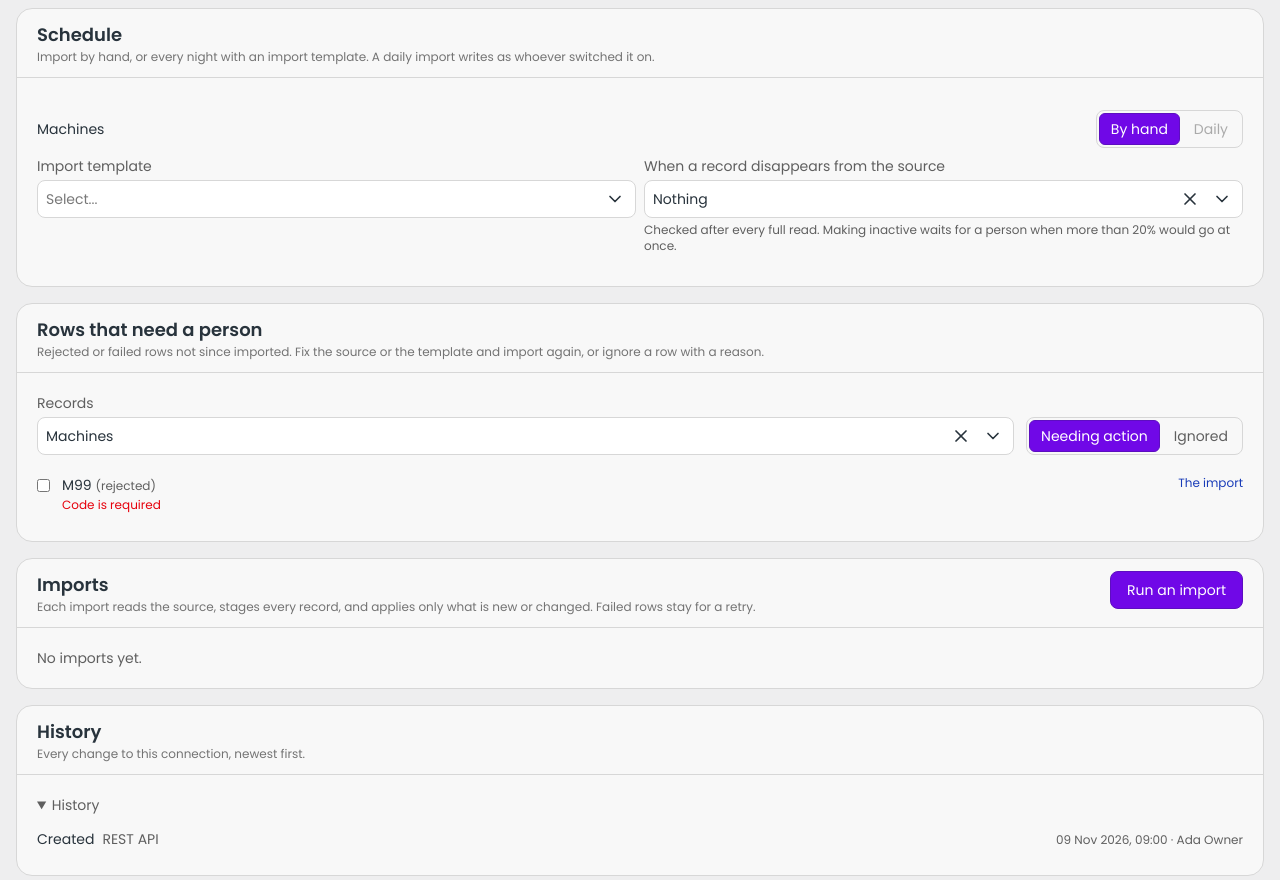
rows that need a person › ignores a rejected row with a reason
The width and height of the screenshot is (1280, 880).
(page scrolled)
Expected: the text "Code is required" is shown, [62,496,161,513]
Click the checkbox named "Choose M99": (44, 486) [37,479,50,492]
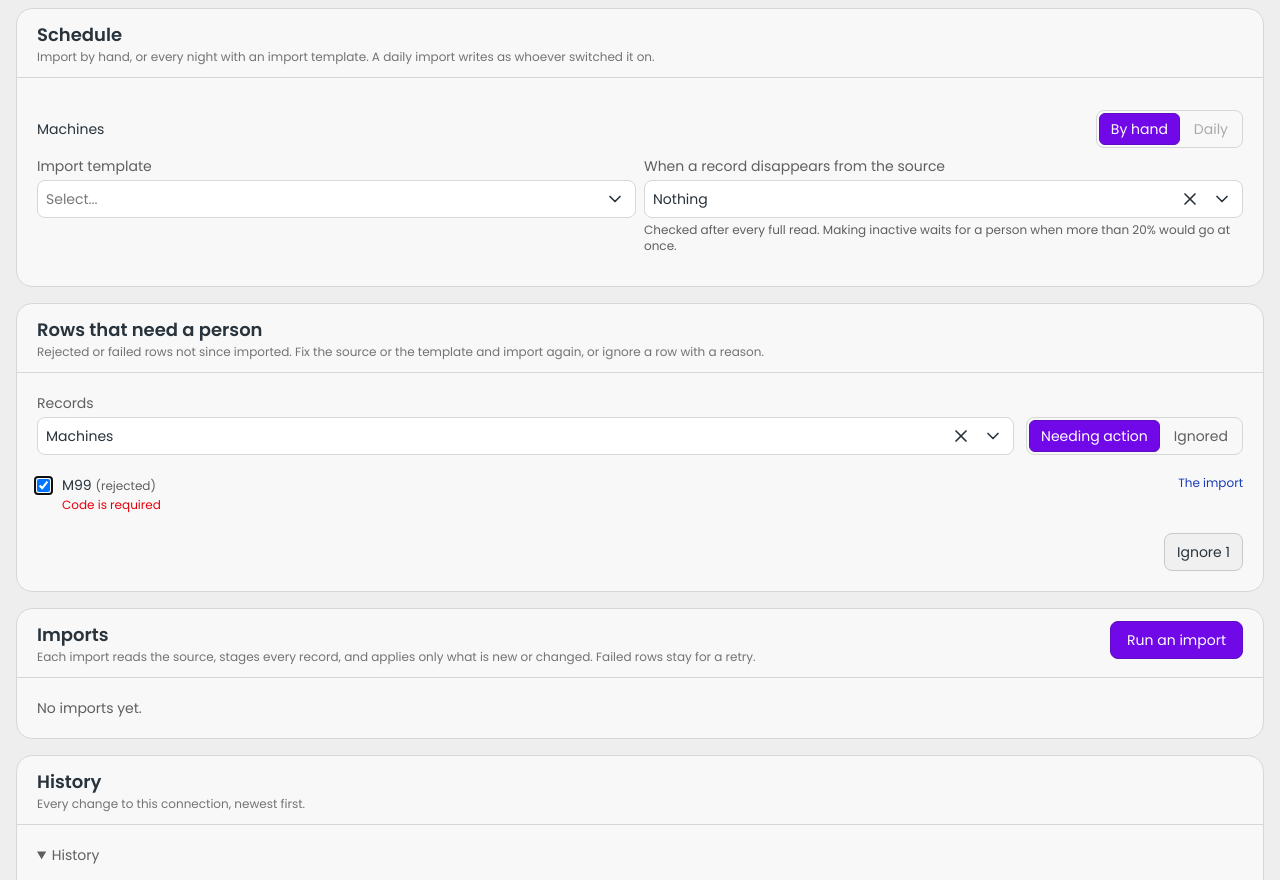
Click the button "Ignore 1": (1204, 552) [1164,533,1243,571]
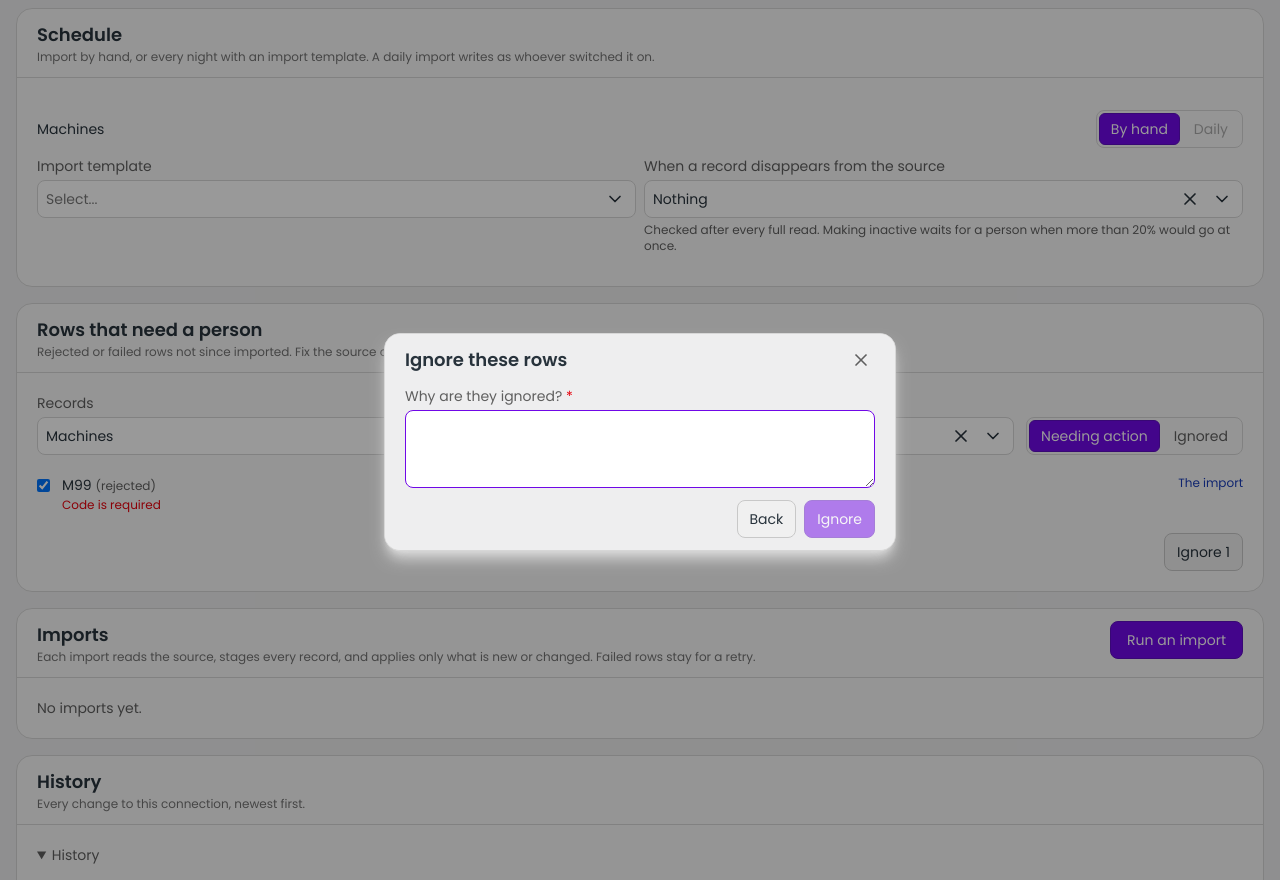
In the text box labelled "Why are they ignored?": (640, 449) [405,410,875,488], type "A test machine"
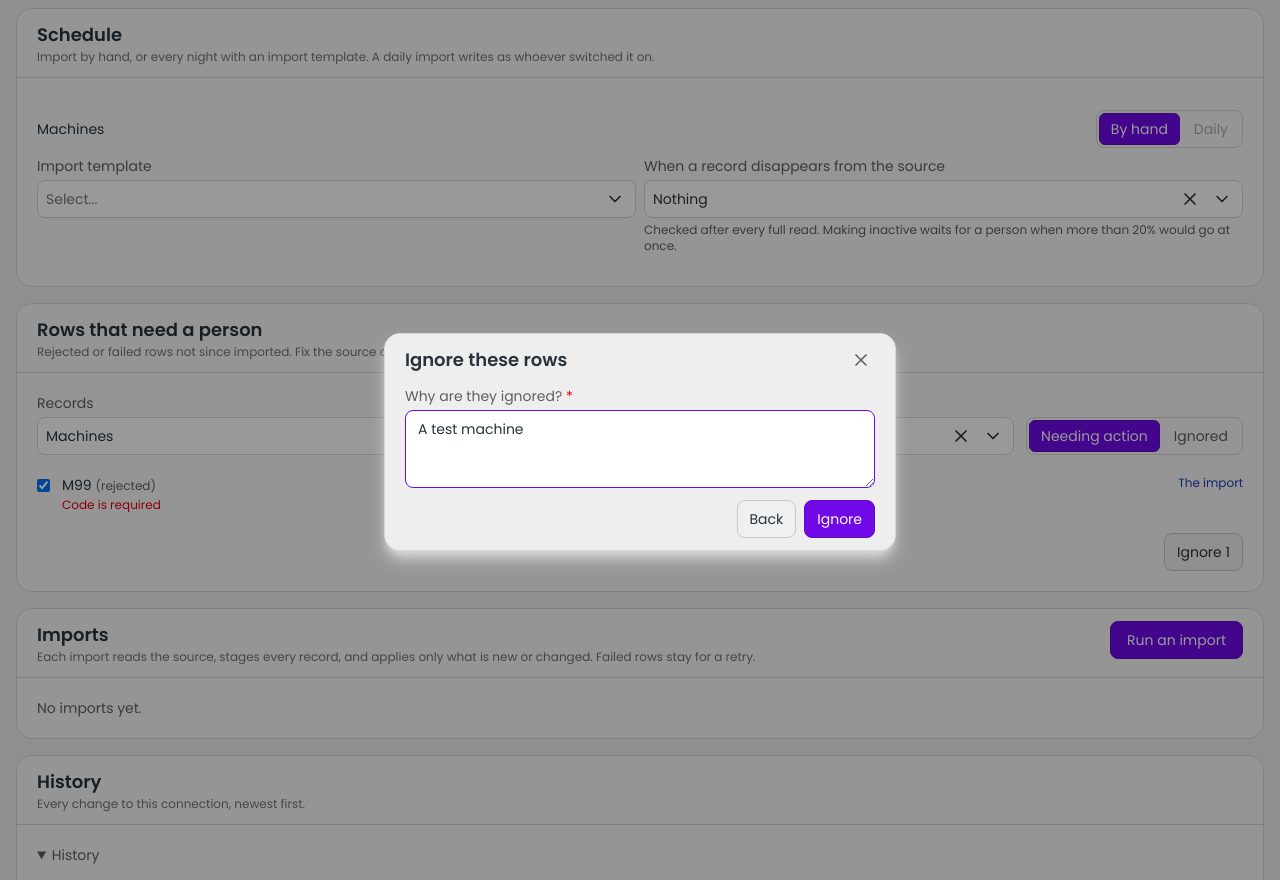
Click the button "Ignore": (840, 519) [804,500,875,538]
(page scrolled)
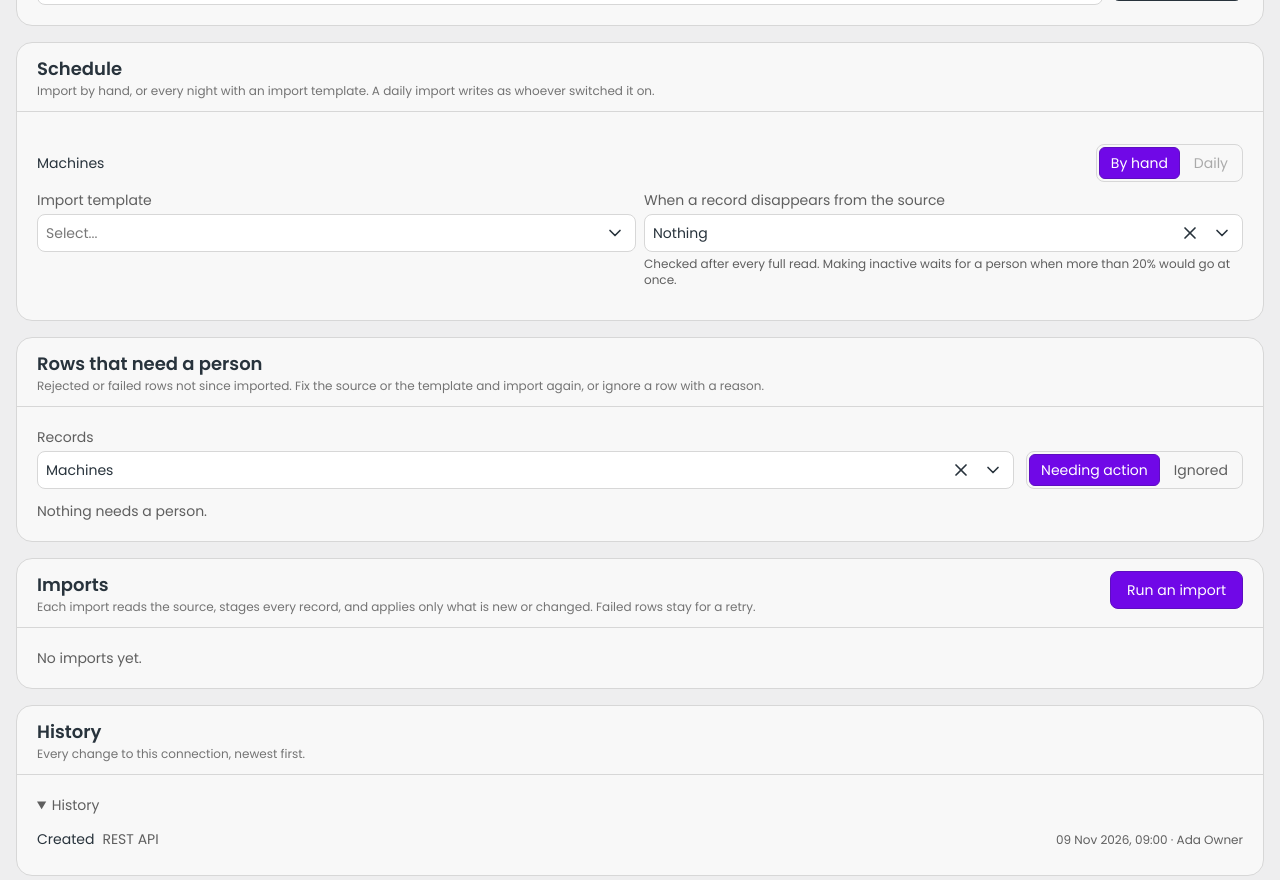
Result: the text "Code is required" is gone
